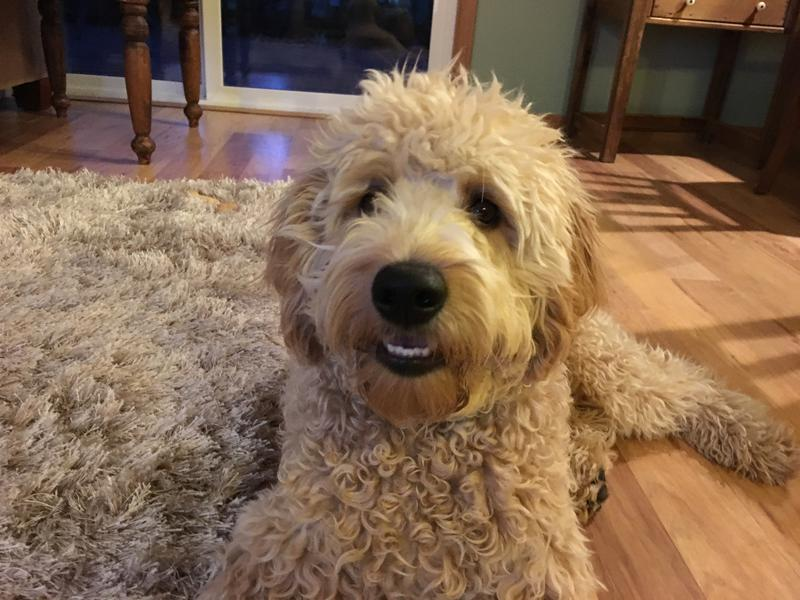dog_down: (199, 61, 794, 600)
